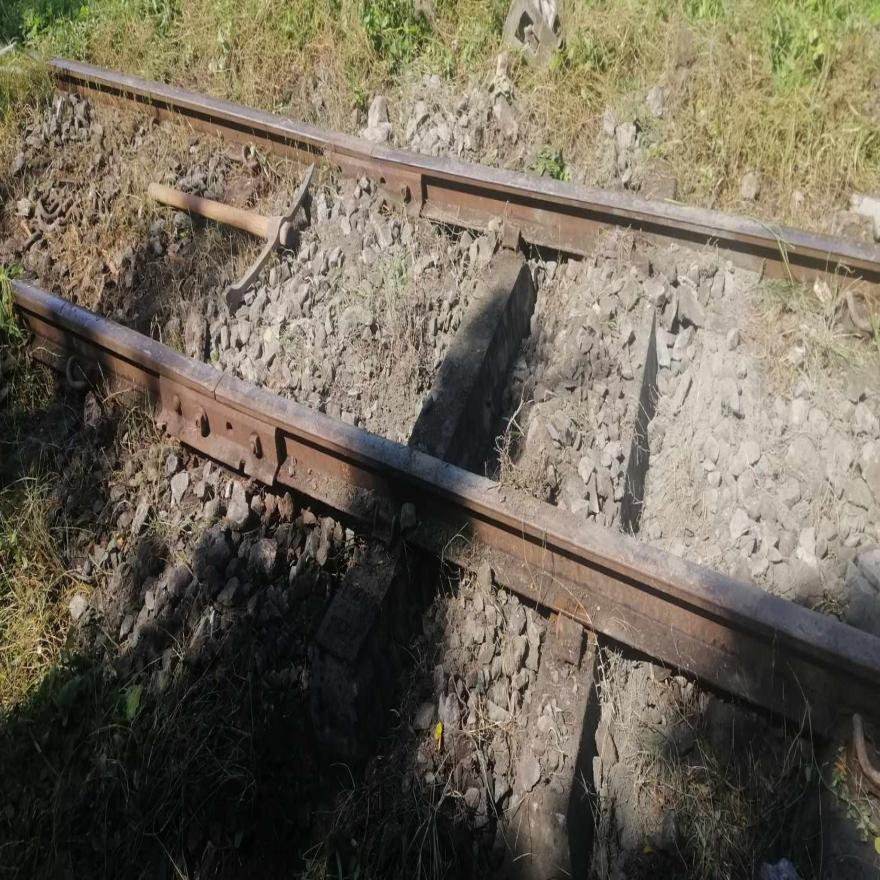railway-gap: (203, 354, 237, 416), (359, 120, 385, 180)
